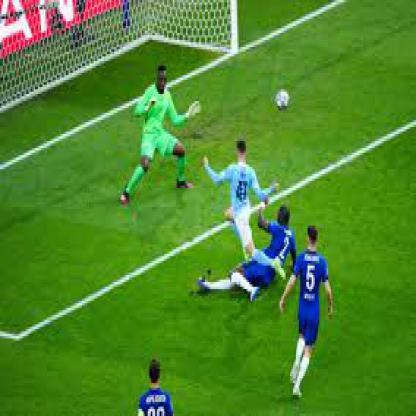goal: (118, 3, 312, 142)
